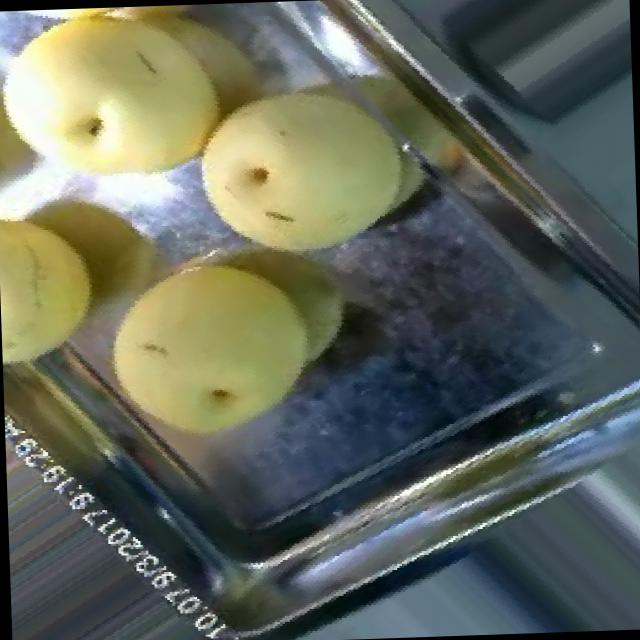Fruit: (66, 224, 330, 473), (172, 50, 438, 281), (0, 2, 252, 221), (0, 173, 116, 395)
